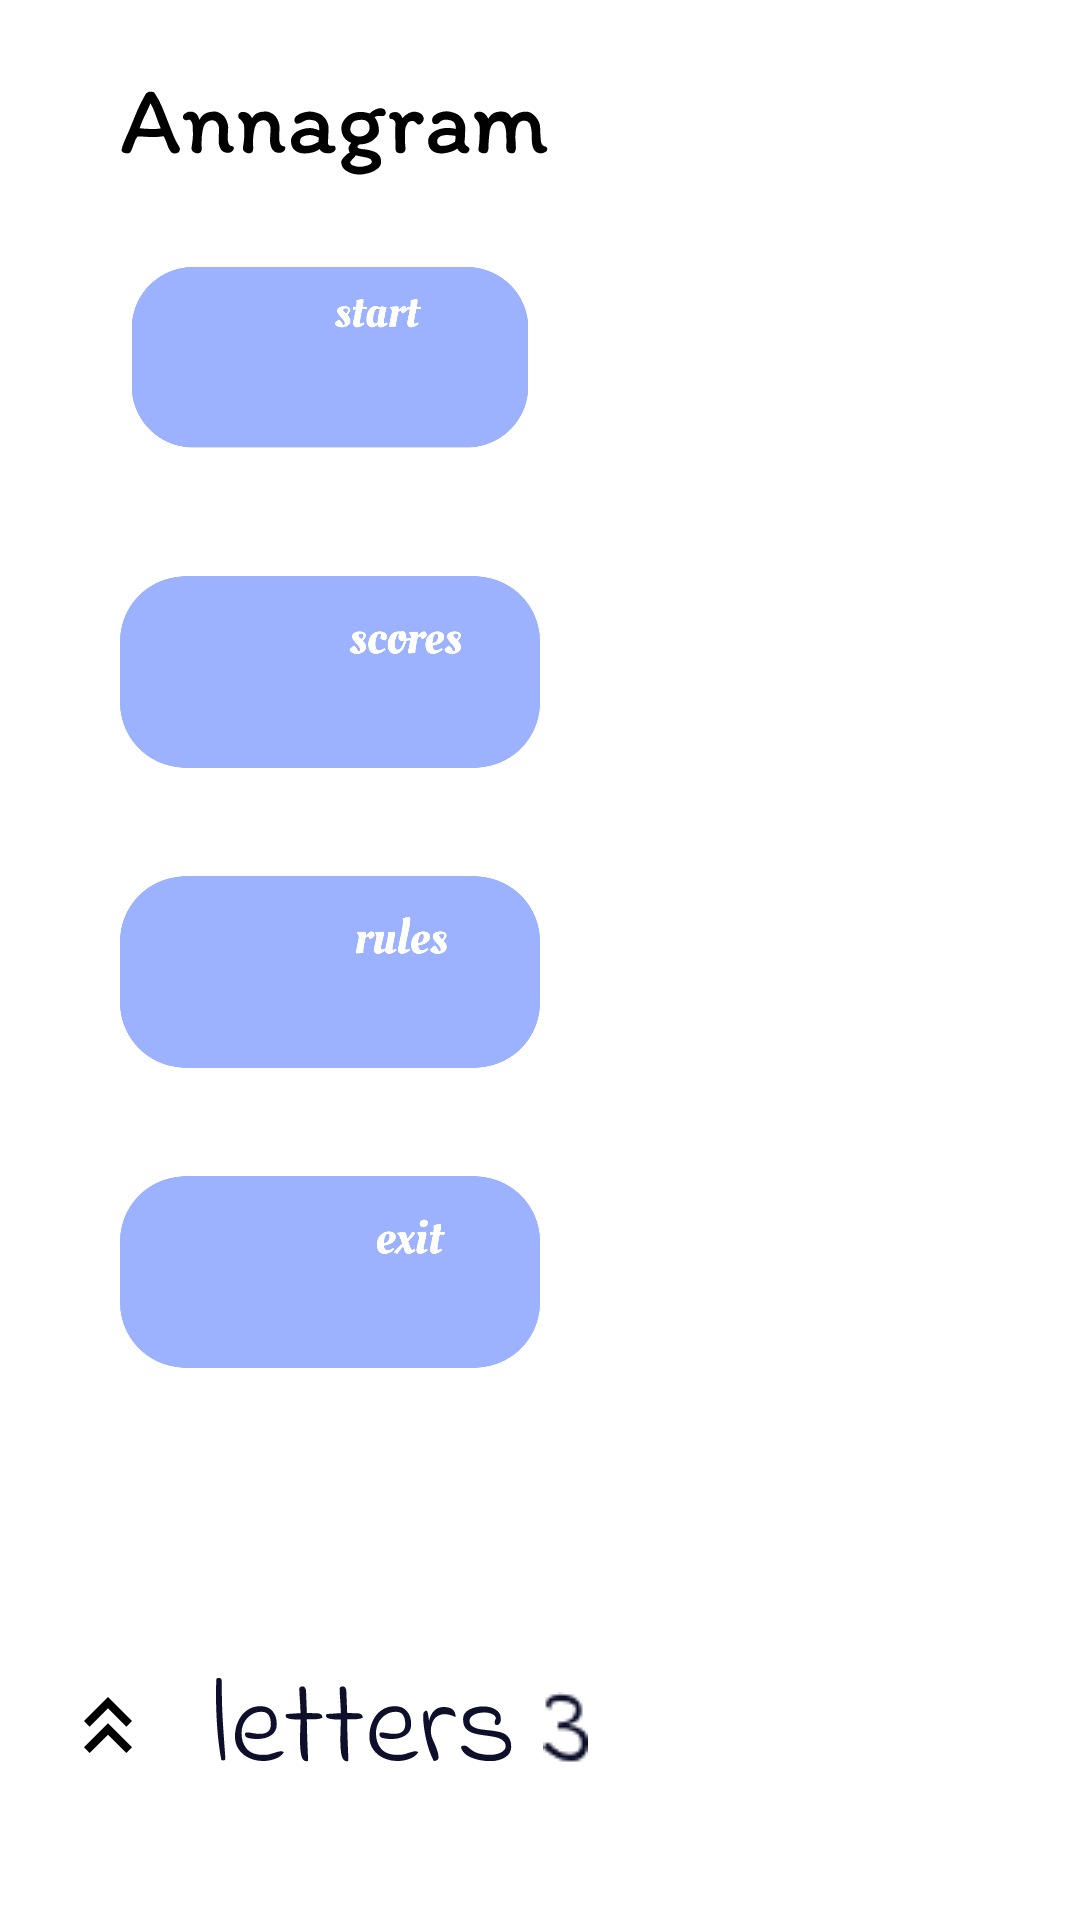

Screen size 1080 × 1920. Icon name, then its box in pixels as (x1, y1, x2, y2):
keyboard double arrow up: (84, 1697, 132, 1753)
